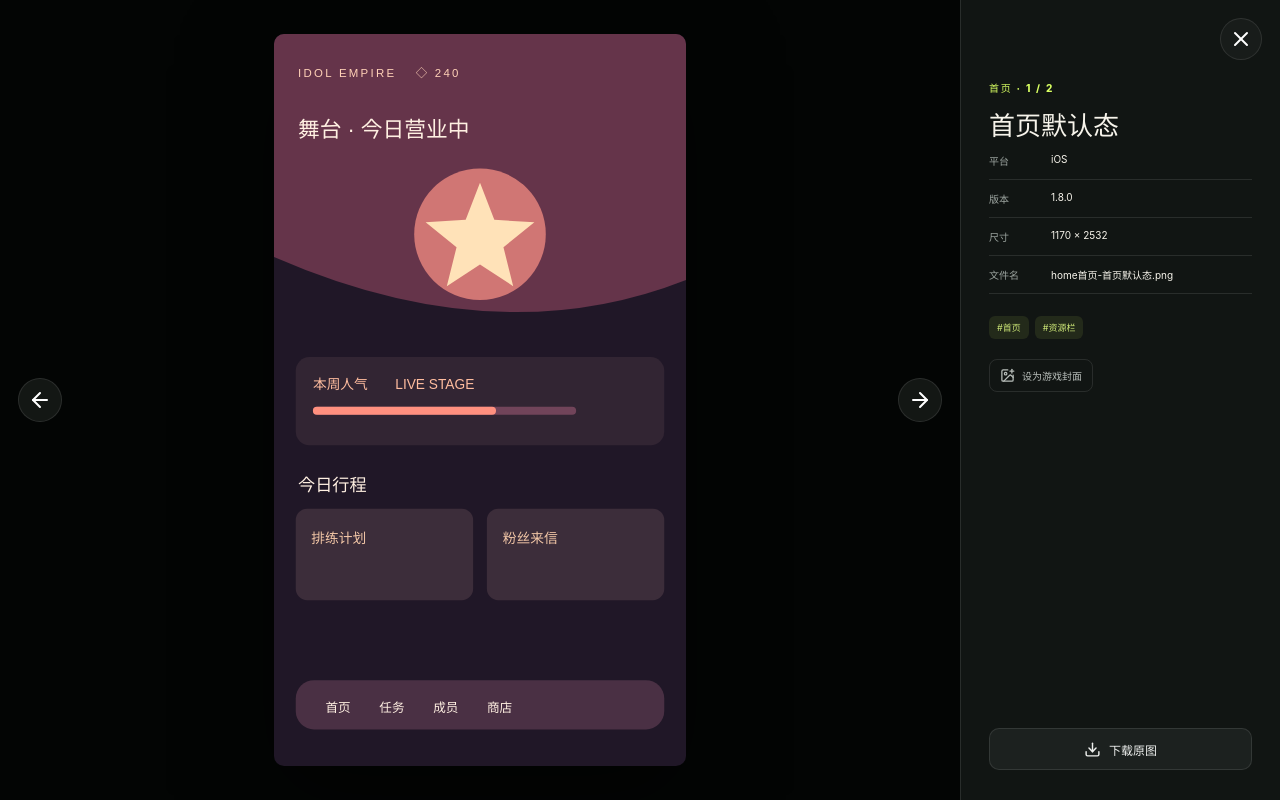
Test case: ImageViewer › keeps the viewer open and shows a retryable error when setting the cover fails
What coordinates should you click on to do the following:
click the button "设为游戏封面"
I would click on:
 (1041, 376)
Its box is [989,359,1093,392].
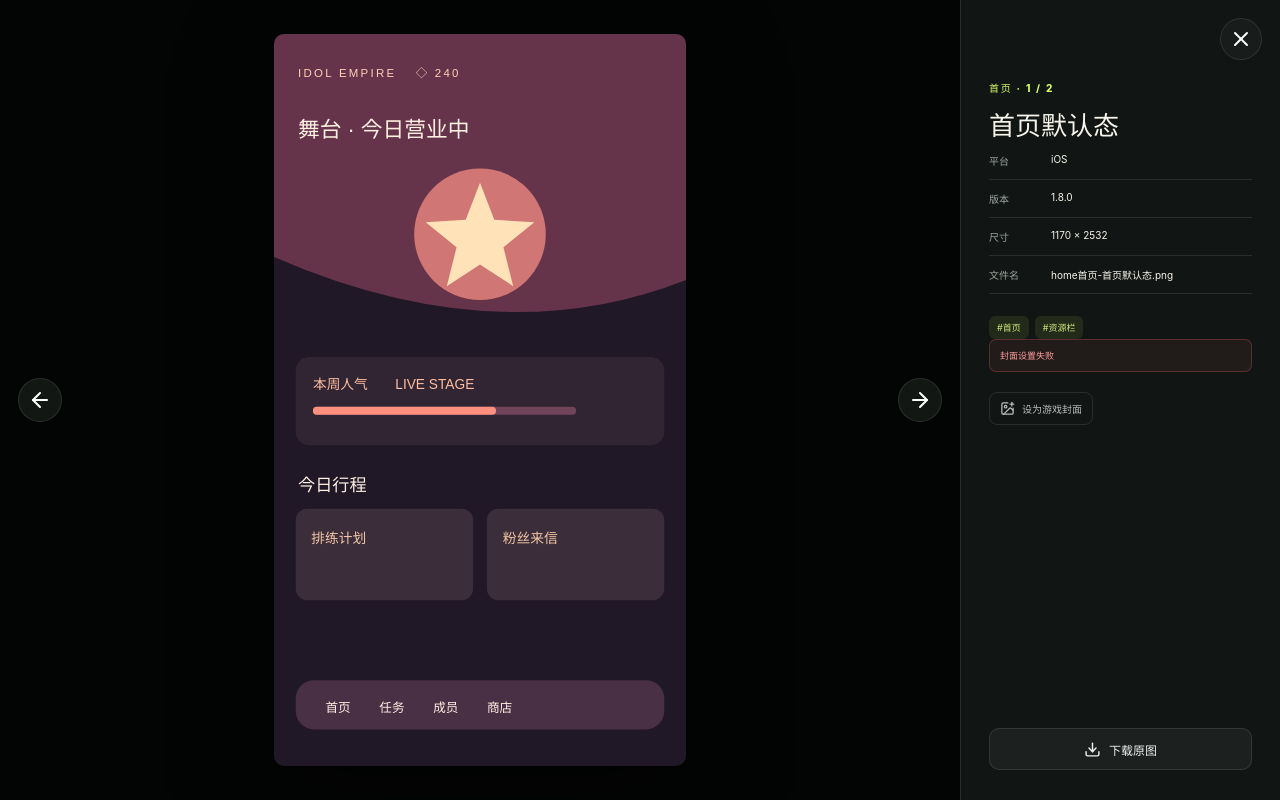
Expected: the button "设为游戏封面" is enabled, [989,392,1093,425]
Expected: the message reads "封面设置失败", [1000,350,1054,361]
